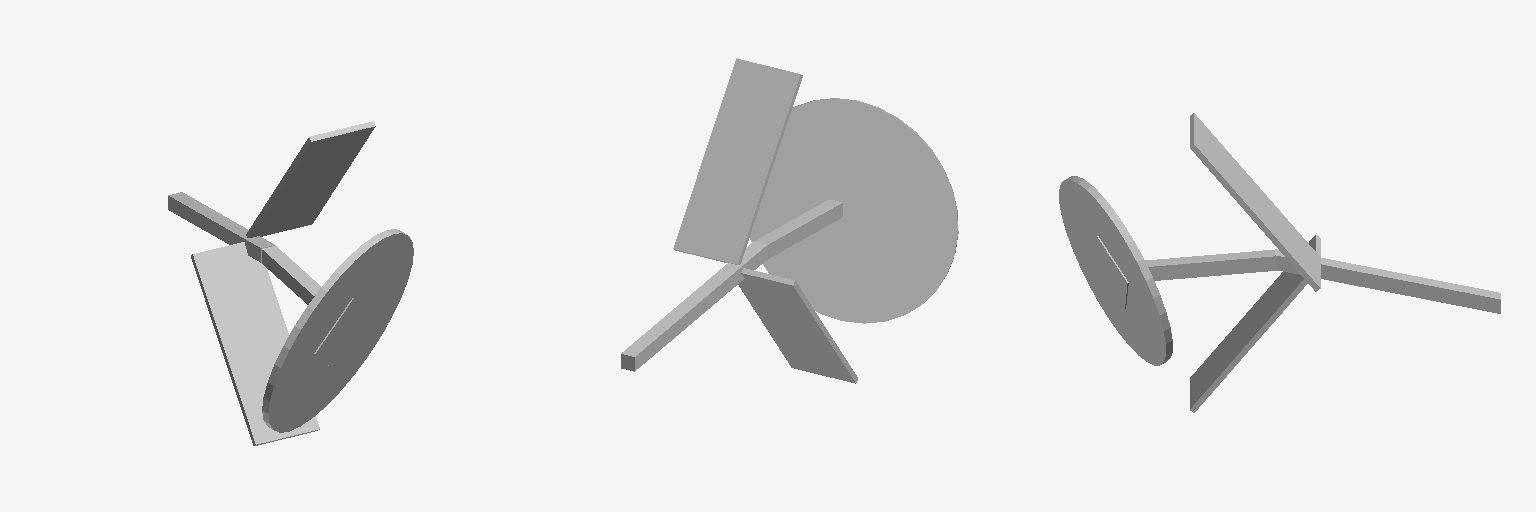
The model's file is ObjectPinkFlower.obj.
The picture shows the model from 3 angles: view 1: azimuth 30°, elevation 25°; view 2: azimuth 150°, elevation 25°; view 3: azimuth 270°, elevation 25°; orthographic projection.
Parts seen in each view (by area): view 1: Cylinder, Cube.003, Cube.002, Cube, Cube.001, Cube.004; view 2: Cylinder, Cube.002, Cube.003, Cube, Cube.001; view 3: Cylinder, Cube.002, Cube.003, Cube, Cube.001, Cube.004.
Boxes of the visible parts, box(x1,y1,x2,y2) form: Cylinder: box(262, 229, 413, 432); Cube.003: box(191, 242, 319, 445); Cube.002: box(246, 121, 375, 237); Cube: box(168, 192, 274, 262); Cube.001: box(262, 244, 320, 304); Cube.004: box(314, 298, 369, 366); Cylinder: box(750, 98, 958, 323); Cube.002: box(673, 58, 802, 264); Cube.003: box(738, 268, 857, 383); Cube: box(621, 242, 767, 371); Cube.001: box(754, 200, 842, 259); Cylinder: box(1059, 176, 1172, 365); Cube.002: box(1190, 113, 1320, 291); Cube.003: box(1190, 235, 1320, 412); Cube: box(1275, 249, 1500, 313); Cube.001: box(1145, 250, 1277, 280); Cube.004: box(1094, 236, 1128, 308).
Bounding box in the file's own units: 0.9618 × 1.52 × 2.06.